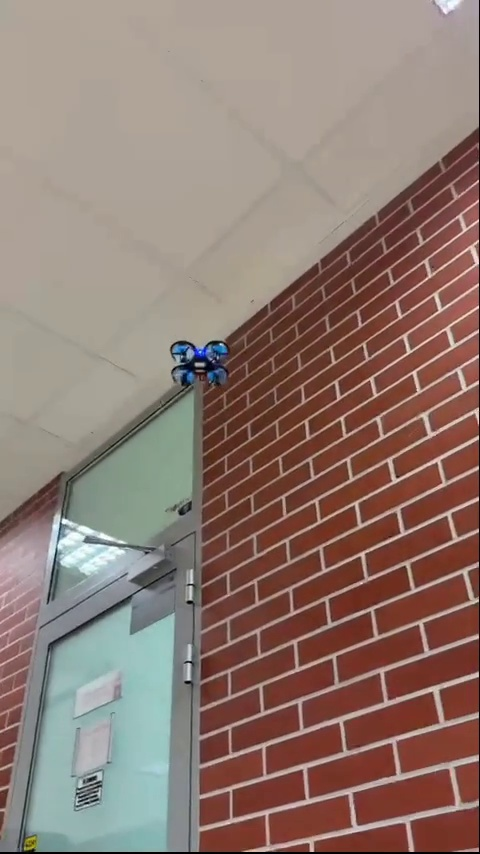drone: (168, 339, 231, 387)
